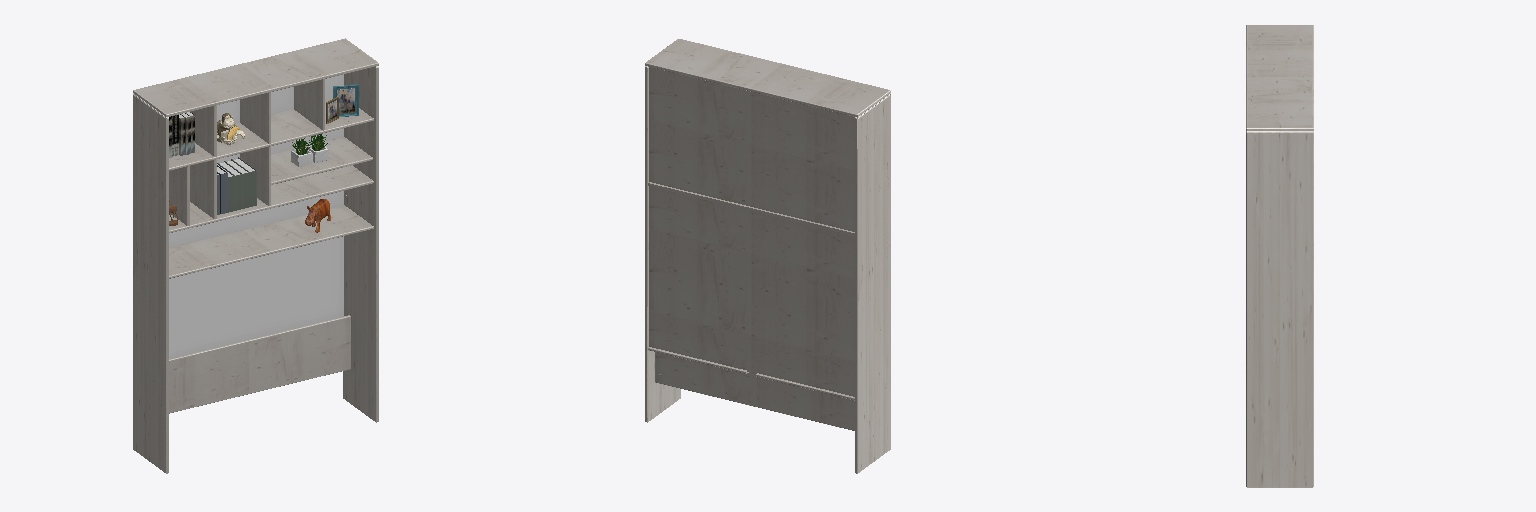
3 views of the same model, side by side, from view 1: azimuth 30°, elevation 25°; view 2: azimuth 150°, elevation 25°; view 3: azimuth 270°, elevation 25° (orthographic).
Visible parts, largest first — view 1: solid_019, solid_020, solid_018, solid_002, solid_014; view 2: solid_019; view 3: solid_019.
Part boxes in pixels (bbox=[...]): solid_019: bbox=[133, 38, 378, 473]; solid_020: bbox=[169, 74, 343, 358]; solid_018: bbox=[169, 112, 194, 157]; solid_002: bbox=[228, 171, 256, 212]; solid_014: bbox=[328, 88, 354, 120]; solid_019: bbox=[645, 39, 890, 473]; solid_019: bbox=[1246, 25, 1313, 487].
Bounding box in the file's own units: 0.9469 × 1.53 × 0.2601.
1 materials, 1 textured.